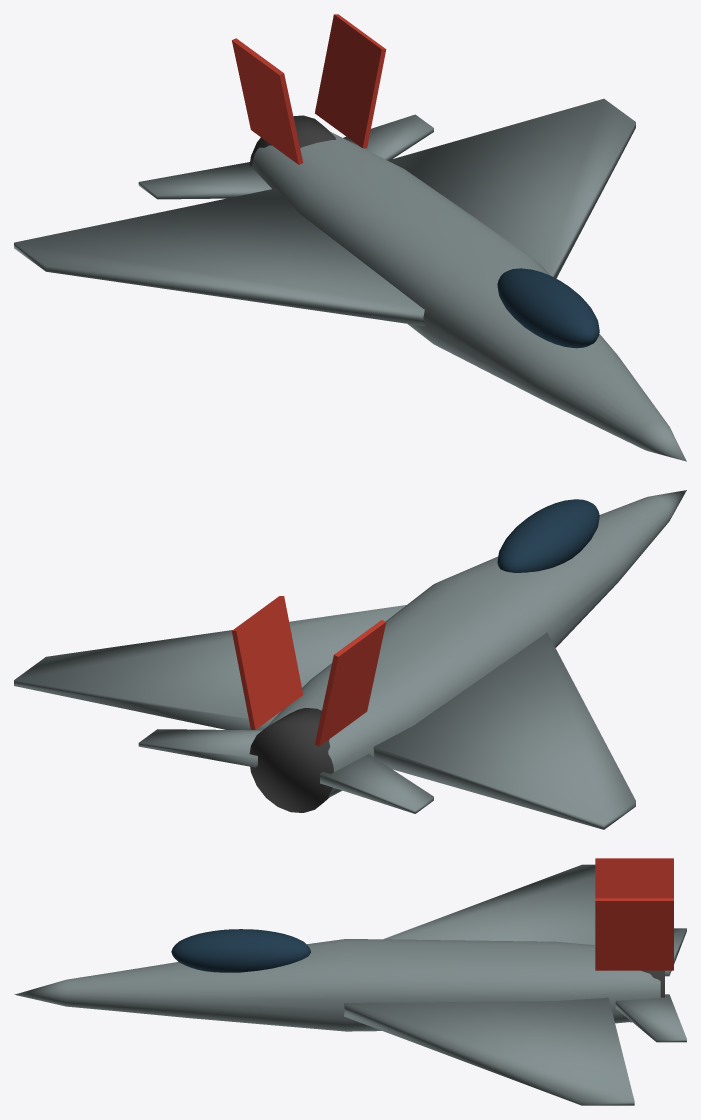
The model's file is enemy_jet.glb.
3 renders of one model, top to bottom at view 1: azimuth 30°, elevation 25°; view 2: azimuth 150°, elevation 25°; view 3: azimuth 270°, elevation 25°, orthographic. The views are drawn at different scales.
Parts seen in each view (by area): view 1: enemy_jet; view 2: enemy_jet; view 3: enemy_jet.
Part boxes in pixels (x1,y1,x2,y2): enemy_jet: (14,14,686,461); enemy_jet: (14,490,686,829); enemy_jet: (14,858,686,1105).
Bounding box in the file's own units: 6.4 × 1.79 × 7.7.
